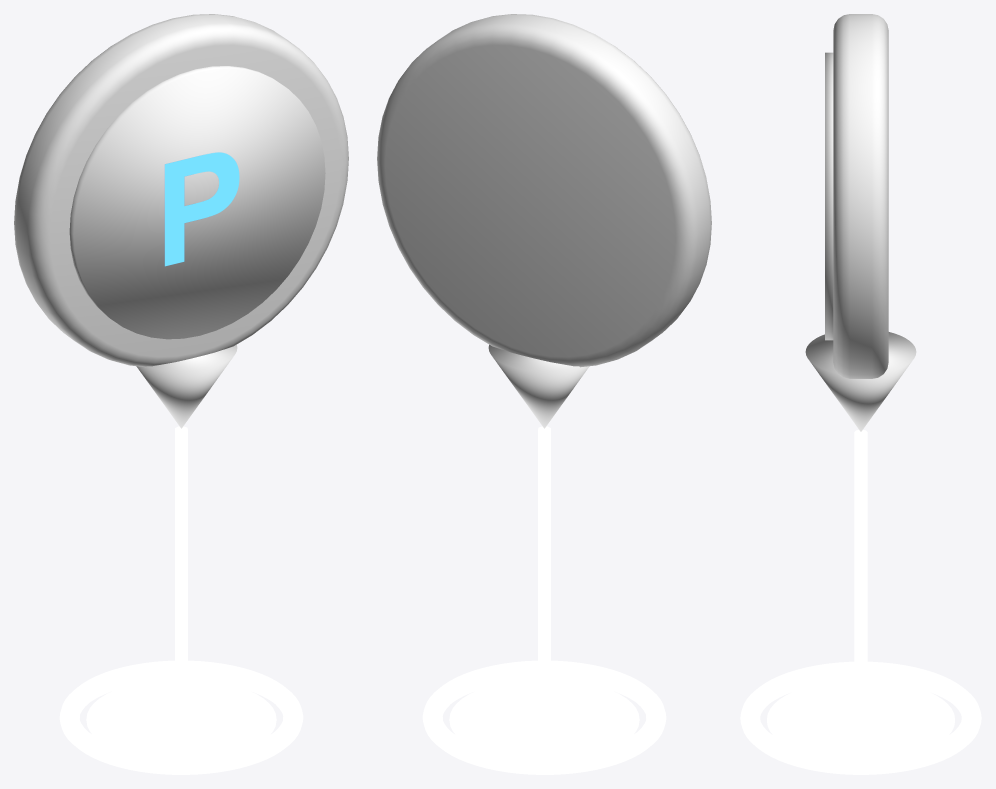
File: pin-d.glb
The picture shows the model from 3 angles, left to right: view 1: azimuth 30°, elevation 25°; view 2: azimuth 150°, elevation 25°; view 3: azimuth 270°, elevation 25°; orthographic projection.
Parts seen in each view (by area): view 1: Cylinder.105, Cylinder.104, Cylinder.107, Torus.080, Plane.036, Cylinder.106, Cone.026; view 2: Cylinder.104, Cylinder.107, Torus.080, Cylinder.106, Cone.026; view 3: Cylinder.104, Cylinder.107, Torus.080, Cone.026, Cylinder.106, Cylinder.105.
Boxes of the visible parts, left/top/right/bottom form: Cylinder.105: left=69, top=66, right=325, bottom=339; Cylinder.104: left=14, top=14, right=348, bottom=367; Cylinder.107: left=86, top=678, right=276, bottom=754; Torus.080: left=59, top=660, right=303, bottom=774; Plane.036: left=164, top=152, right=239, bottom=266; Cylinder.106: left=175, top=426, right=187, bottom=715; Cone.026: left=136, top=344, right=237, bottom=428; Cylinder.104: left=377, top=14, right=711, bottom=367; Cylinder.107: left=449, top=678, right=639, bottom=754; Torus.080: left=422, top=660, right=666, bottom=774; Cylinder.106: left=538, top=426, right=550, bottom=715; Cone.026: left=488, top=344, right=589, bottom=428; Cylinder.104: left=833, top=14, right=888, bottom=378; Cylinder.107: left=767, top=679, right=954, bottom=754; Torus.080: left=740, top=661, right=981, bottom=774; Cone.026: left=805, top=332, right=916, bottom=431; Cylinder.106: left=854, top=430, right=867, bottom=715; Cylinder.105: left=825, top=52, right=833, bottom=340.
Bounding box in the file's own units: 0.66 × 1.39 × 0.436.
6 materials, 1 textured.
